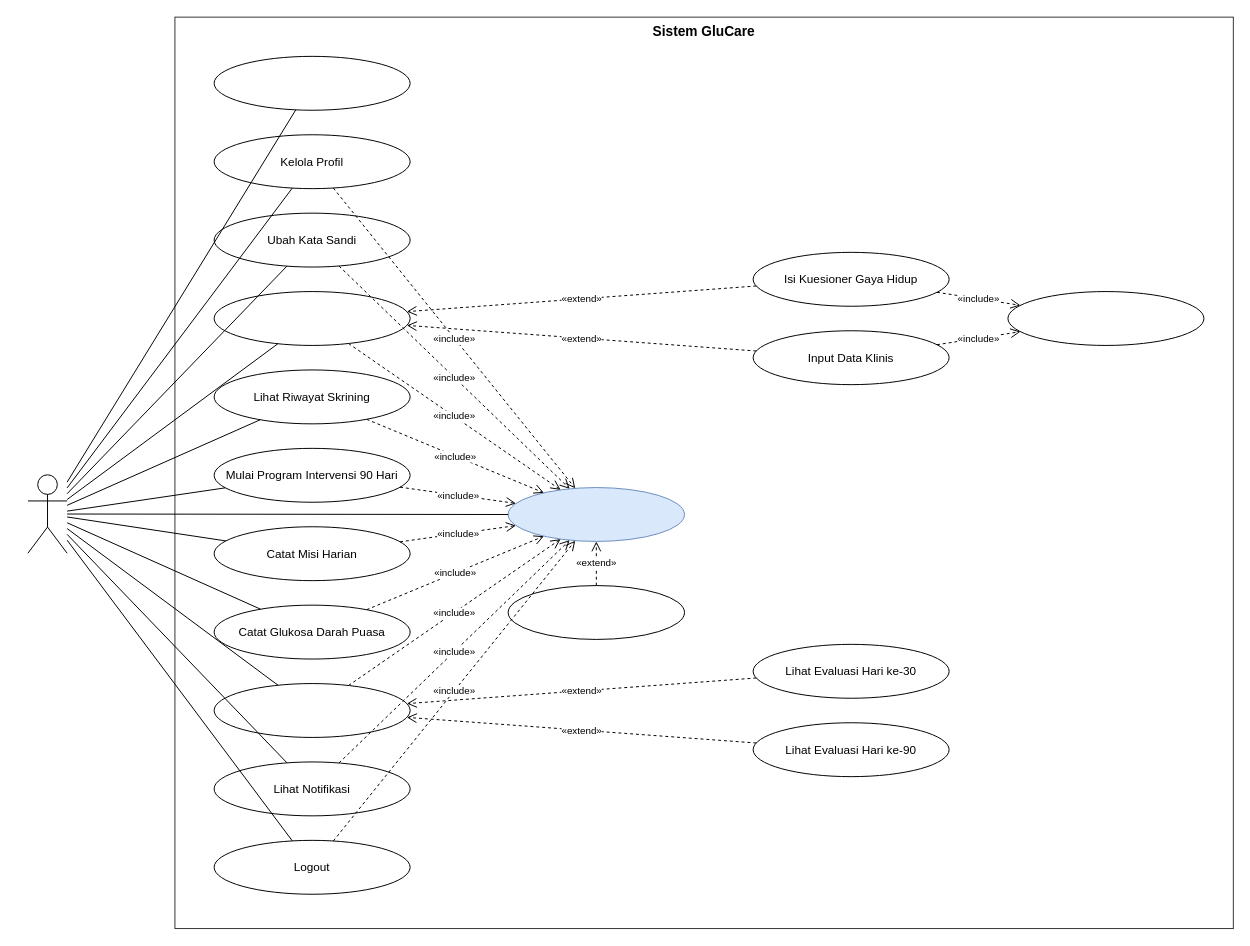
Image size: 1250x946. Some labels were removed from this diagram. Each missing label, with the box of its shape:
Lihat Dashboard Progres: (213, 683, 410, 737)
Lihat Hasil Skrining AI: (1007, 291, 1204, 345)
Login: (507, 487, 685, 541)
Pengguna: (27, 474, 67, 553)
Pilih Metode Skrining: (213, 291, 410, 345)
Registrasi Akun: (213, 55, 410, 110)
Reset Kata Sandi: (507, 585, 685, 639)
